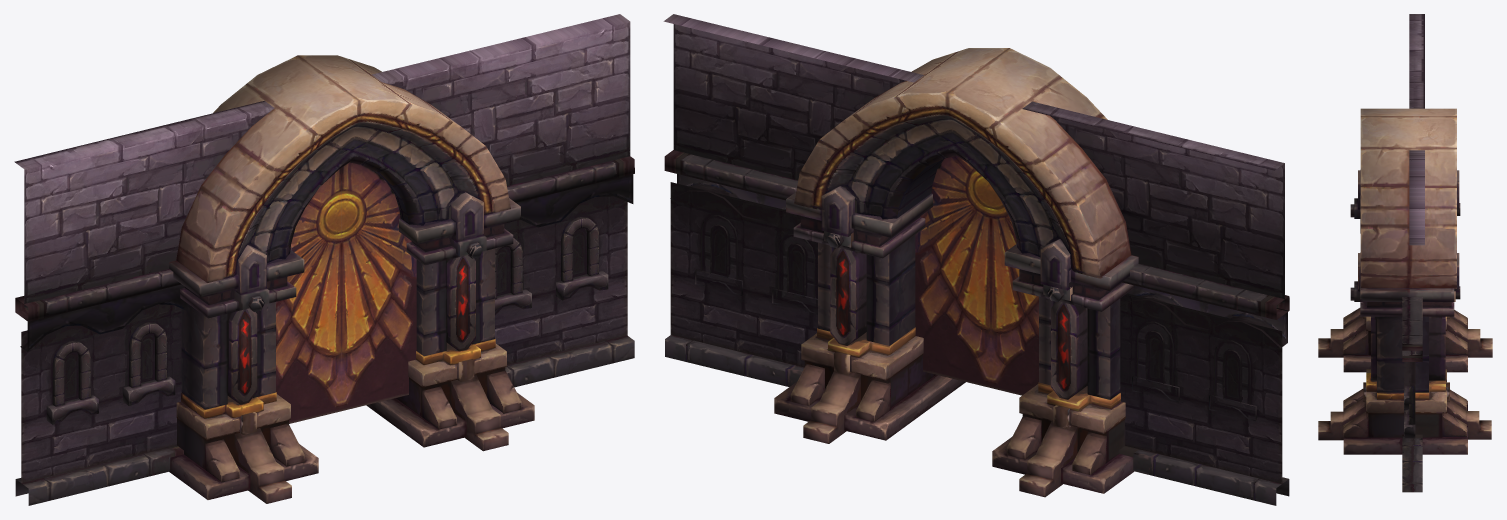
File: hs_damen.FBX
3 views of the same model, side by side, from view 1: azimuth 30°, elevation 25°; view 2: azimuth 150°, elevation 25°; view 3: azimuth 270°, elevation 25° (orthographic). The views are drawn at different scales.
Parts seen in each view (by area): view 1: Box001, Object001, hs_men_2; view 2: Box001, Object001, hs_men_2; view 3: Box001, Object001.
Boxes of the visible parts, box(x1,y1,x2,y2) form: Box001: box(14, 14, 630, 503); Object001: box(15, 156, 634, 505); hs_men_2: box(276, 162, 416, 423); Box001: box(663, 14, 1284, 497); Object001: box(664, 150, 1289, 505); hs_men_2: box(915, 156, 1038, 395); Box001: box(1318, 14, 1492, 440); Object001: box(1343, 297, 1467, 492).
Bounding box in the file's own units: 913 × 510 × 290.
